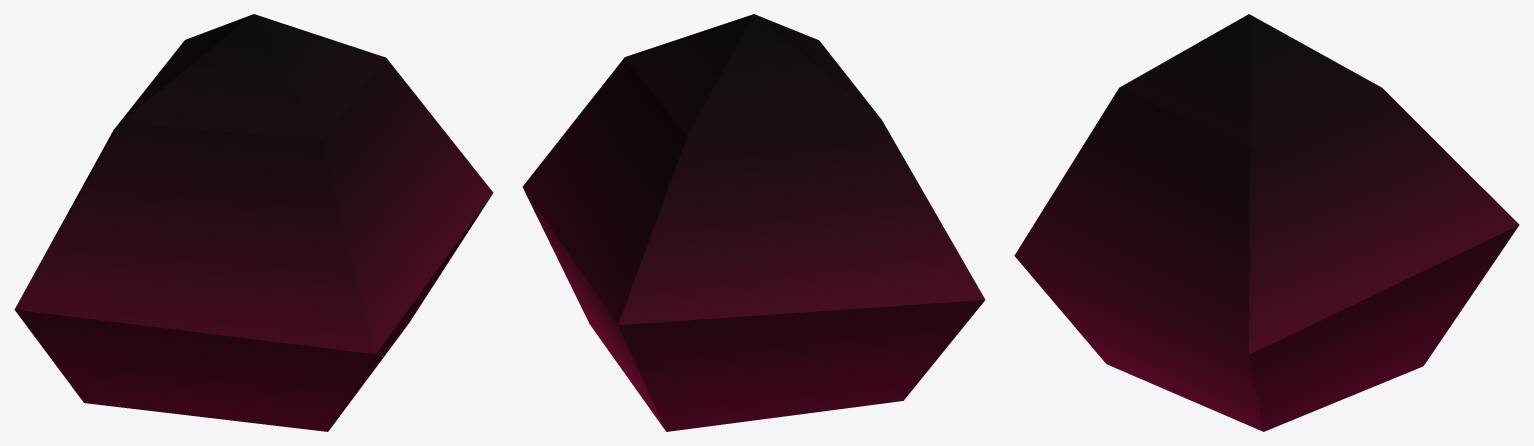
Rendered from NPC_Car_BackLight_01.gltf.
3 renders of one model, left to right at view 1: azimuth 30°, elevation 25°; view 2: azimuth 150°, elevation 25°; view 3: azimuth 270°, elevation 25°, orthographic. The views are drawn at different scales.
Parts seen in each view (by area): view 1: NPC_Car_BackLight_01; view 2: NPC_Car_BackLight_01; view 3: NPC_Car_BackLight_01.
Boxes of the visible parts, box(x1,y1,x2,y2) form: NPC_Car_BackLight_01: box(14, 14, 493, 431); NPC_Car_BackLight_01: box(522, 14, 985, 431); NPC_Car_BackLight_01: box(1014, 14, 1519, 431).
Bounding box in the file's own units: 0.2857 × 0.2086 × 0.2711.
Materials: 1 (1 with a texture image).
